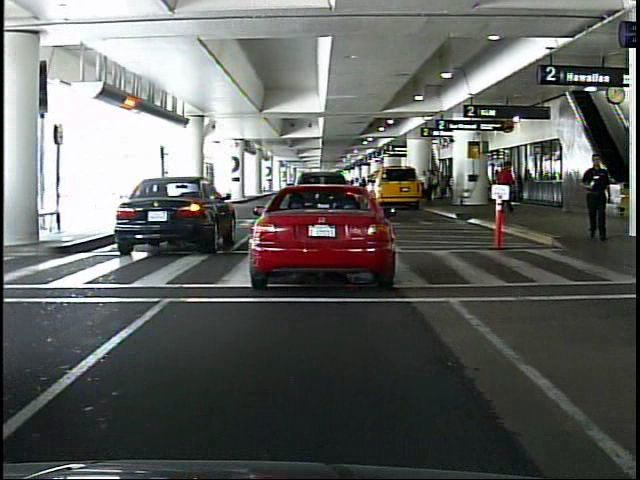person: (581, 151, 611, 243), (494, 159, 516, 214), (419, 165, 432, 202)
